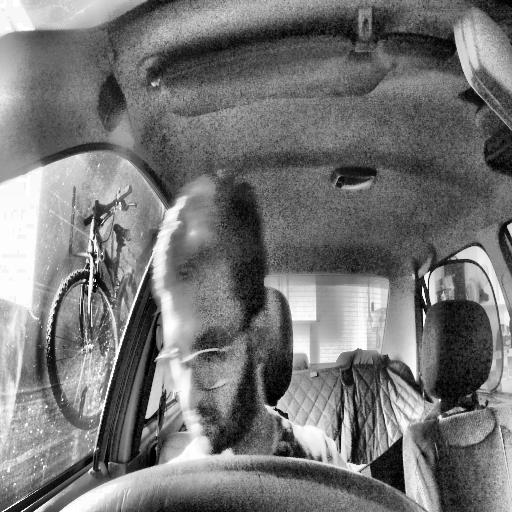drowsy: (152, 167, 277, 457)
